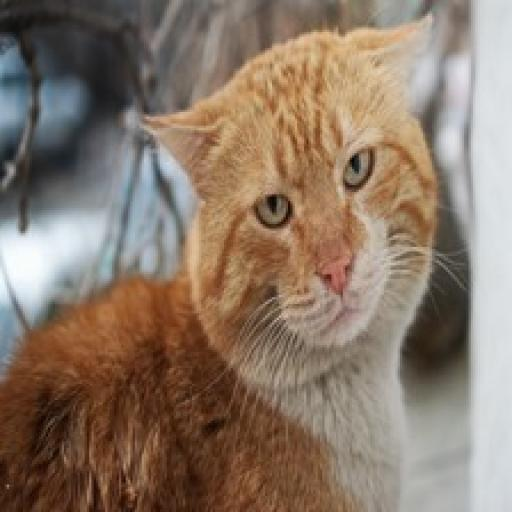cat: (0, 6, 455, 512)
